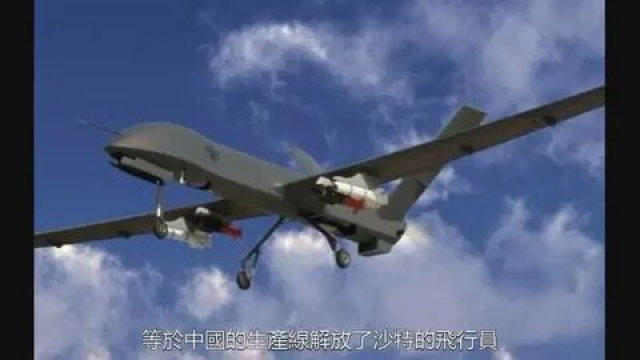military drone: (34, 85, 604, 289)
